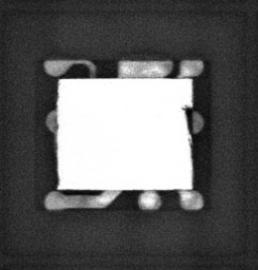DIE_BROKEN: (180, 103, 194, 140)
